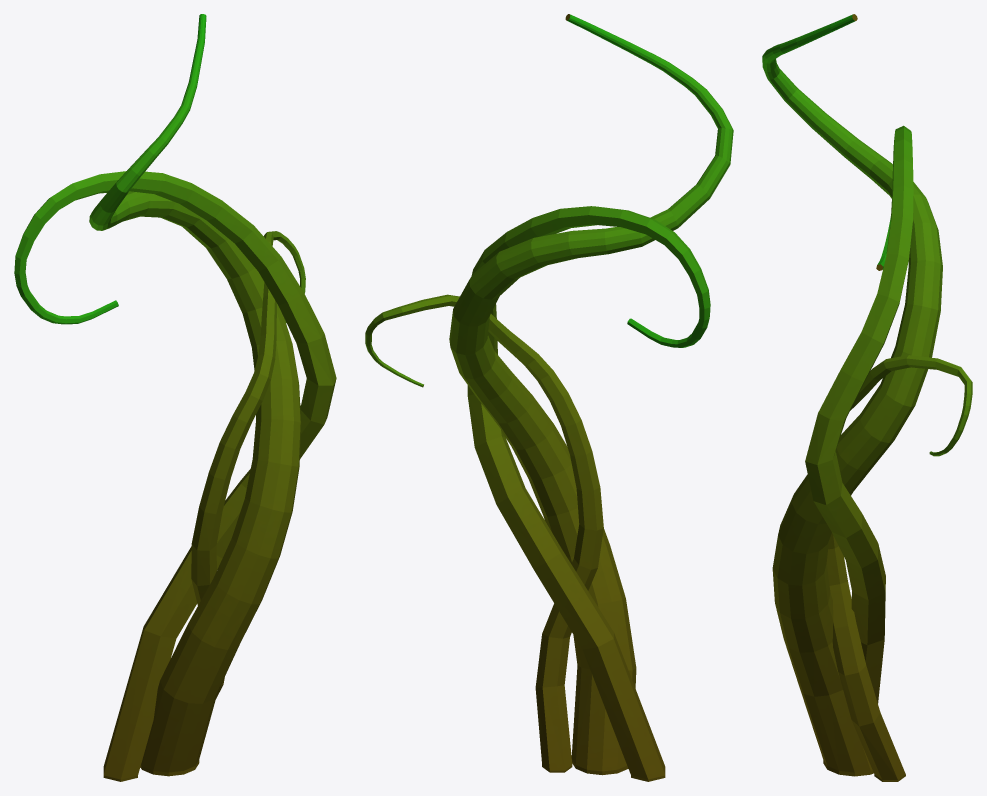
Rendered from Vines 2 texured.fbx.
The picture shows the model from 3 angles, left to right: view 1: azimuth 30°, elevation 25°; view 2: azimuth 150°, elevation 25°; view 3: azimuth 270°, elevation 25°; orthographic projection. The views are drawn at different scales.
Parts seen in each view (by area): view 1: Vine2; view 2: Vine2; view 3: Vine2.
Boxes of the visible parts, box(x1,y1,x2,y2) form: Vine2: box(14, 14, 336, 781); Vine2: box(365, 14, 733, 781); Vine2: box(762, 14, 972, 781).
Size of the model in its own units: 55.01 by 123 by 30.64.
1 material, 1 textured.
